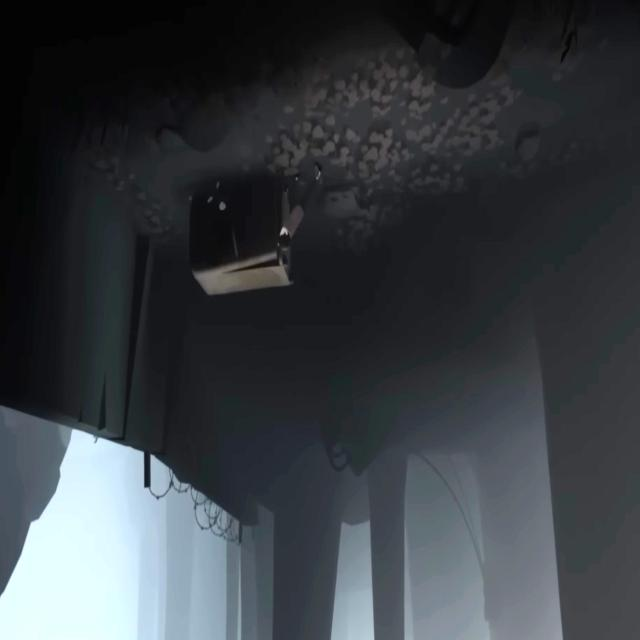boy: (278, 172, 324, 254)
